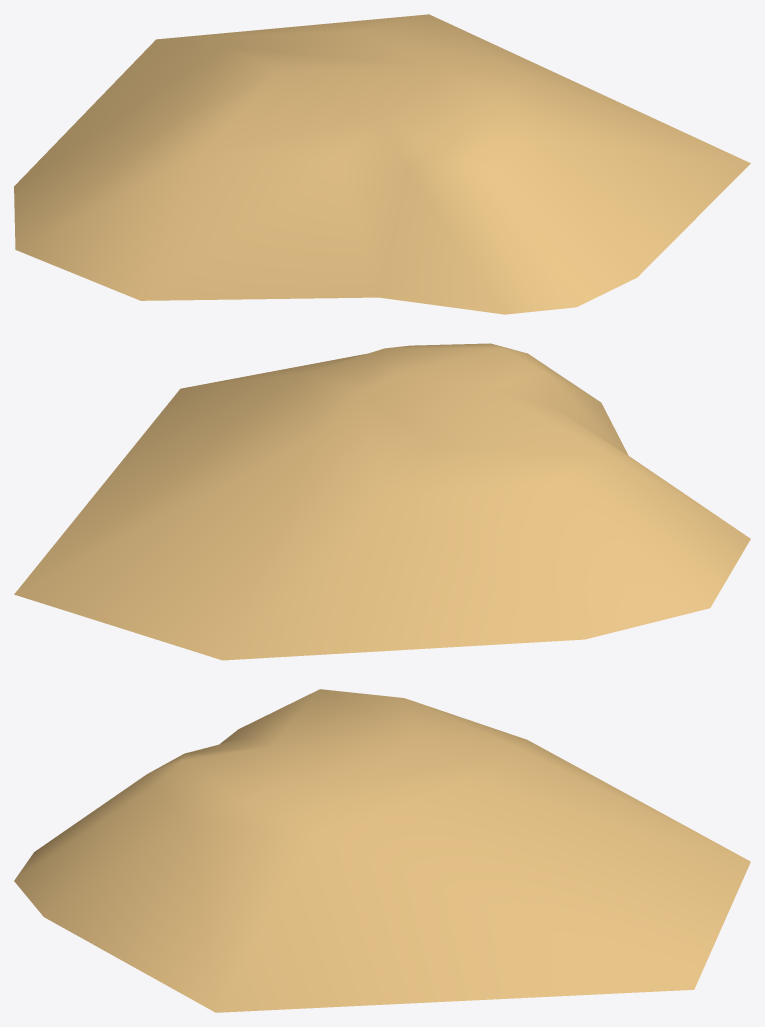
The model's file is island_003.glb.
The picture shows the model from 3 angles, top to bottom: view 1: azimuth 30°, elevation 25°; view 2: azimuth 150°, elevation 25°; view 3: azimuth 270°, elevation 25°; orthographic projection. The views are drawn at different scales.
Parts seen in each view (by area): view 1: Icosphere.001; view 2: Icosphere.001; view 3: Icosphere.001.
Part boxes in pixels (<box>): Icosphere.001: <box>14,14,750,314</box>; Icosphere.001: <box>14,343,750,660</box>; Icosphere.001: <box>14,689,750,1012</box>.
Bounding box in the file's own units: 15.5 × 2.9 × 15.91.
